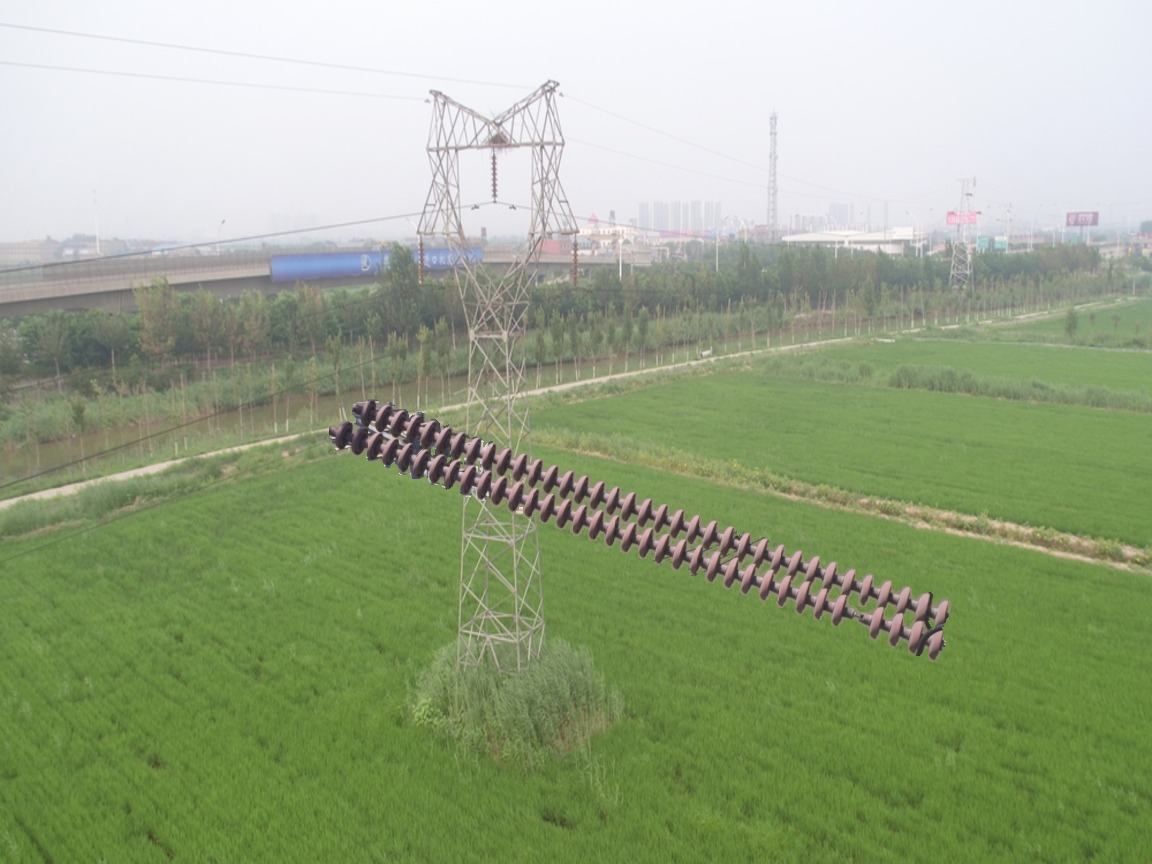defect: (826, 589, 889, 641)
